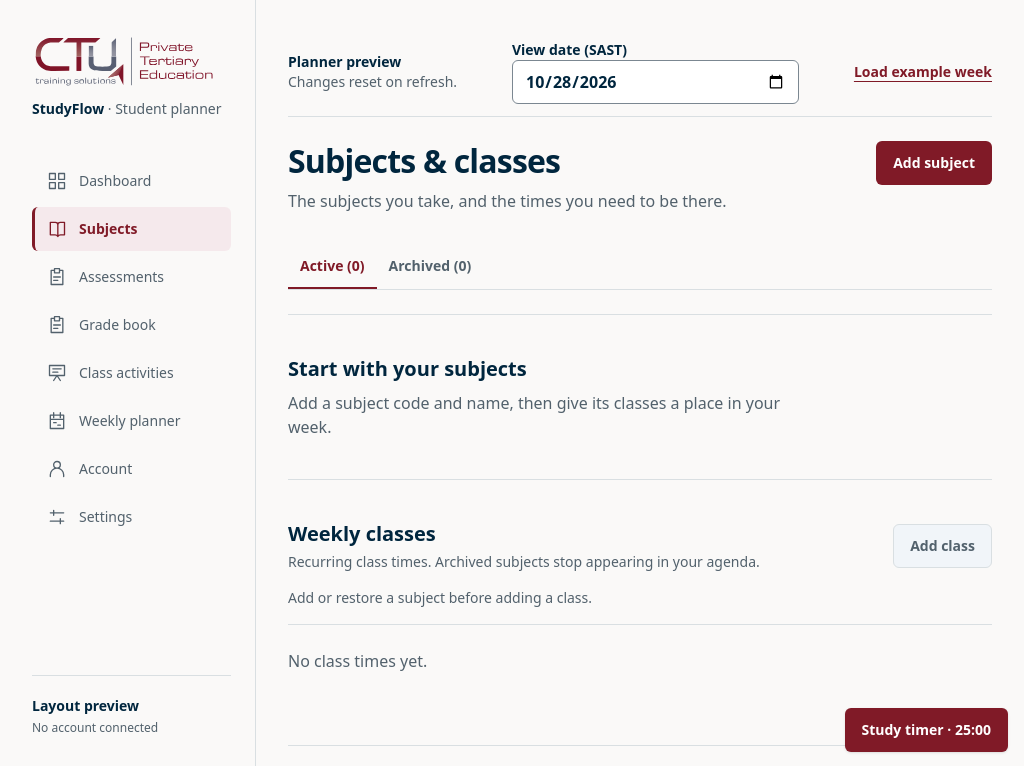
Scenario: shared starter navigation › shows a newly saved subject when it was added from Archived
The image size is (1024, 766).
Click the button "Archived (0)": (430,267) [377,245,483,289]
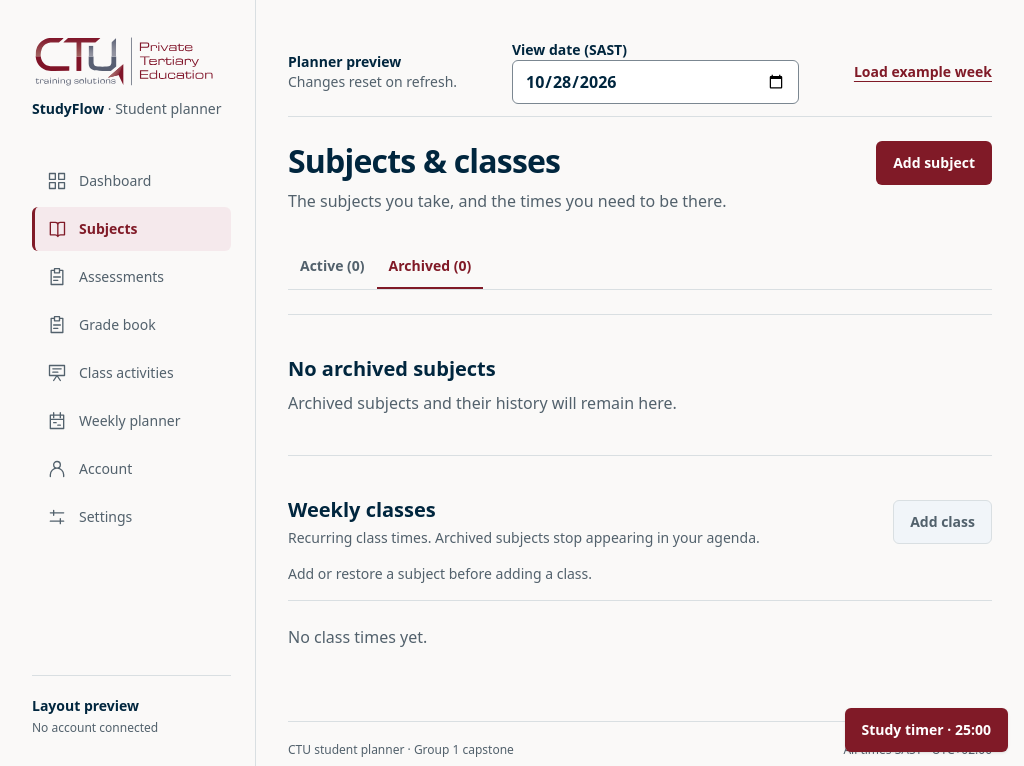
Click the button "Add subject": (934,163) [876,141,992,185]
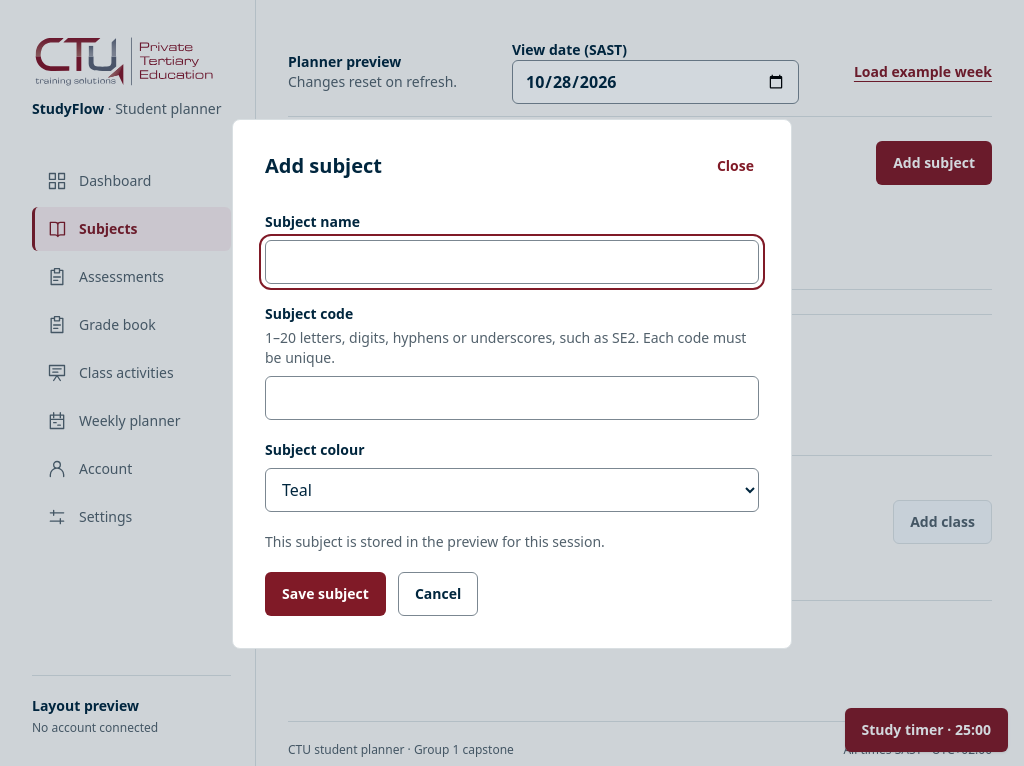
In the field labelled "Subject name": (512,262) [265,240,759,284], type "Visible subject"
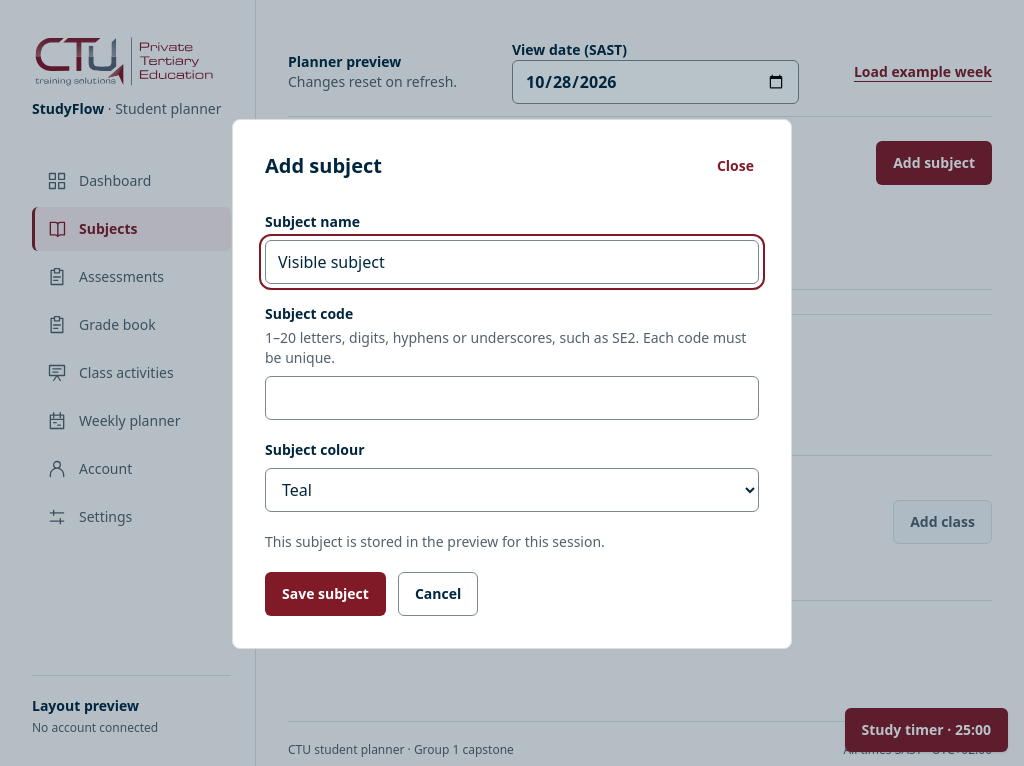
In the field labelled "Subject code": (512,398) [265,376,759,420], type "VIS"
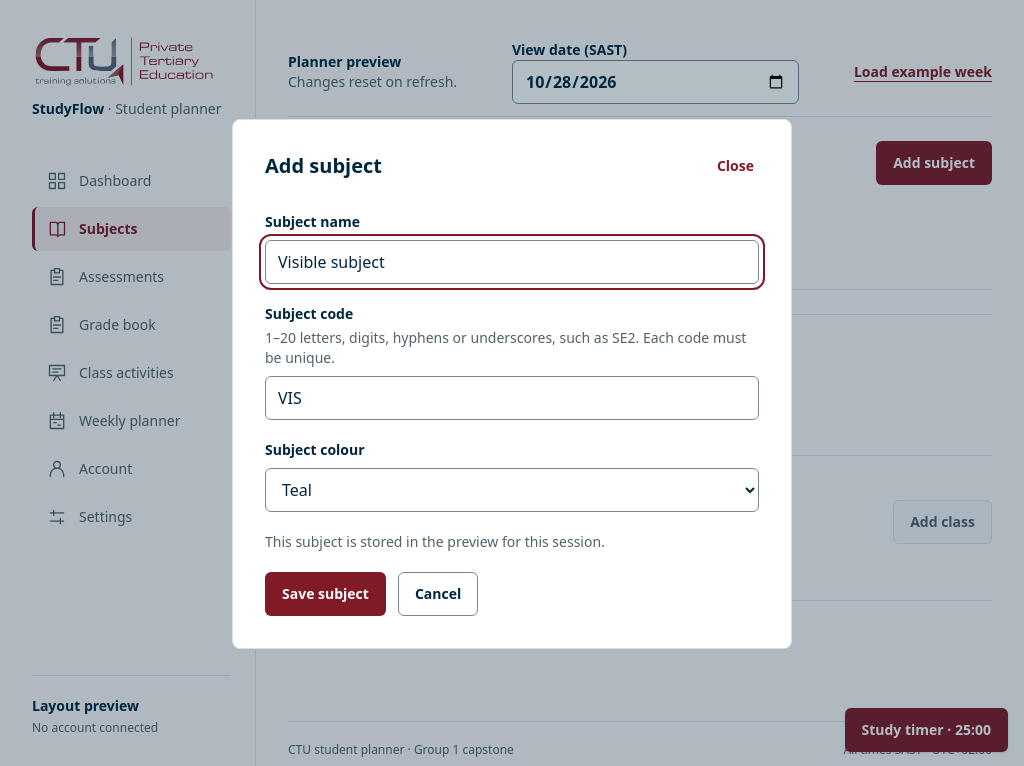
Click the button "Save subject": (325,594) [265,572,386,616]
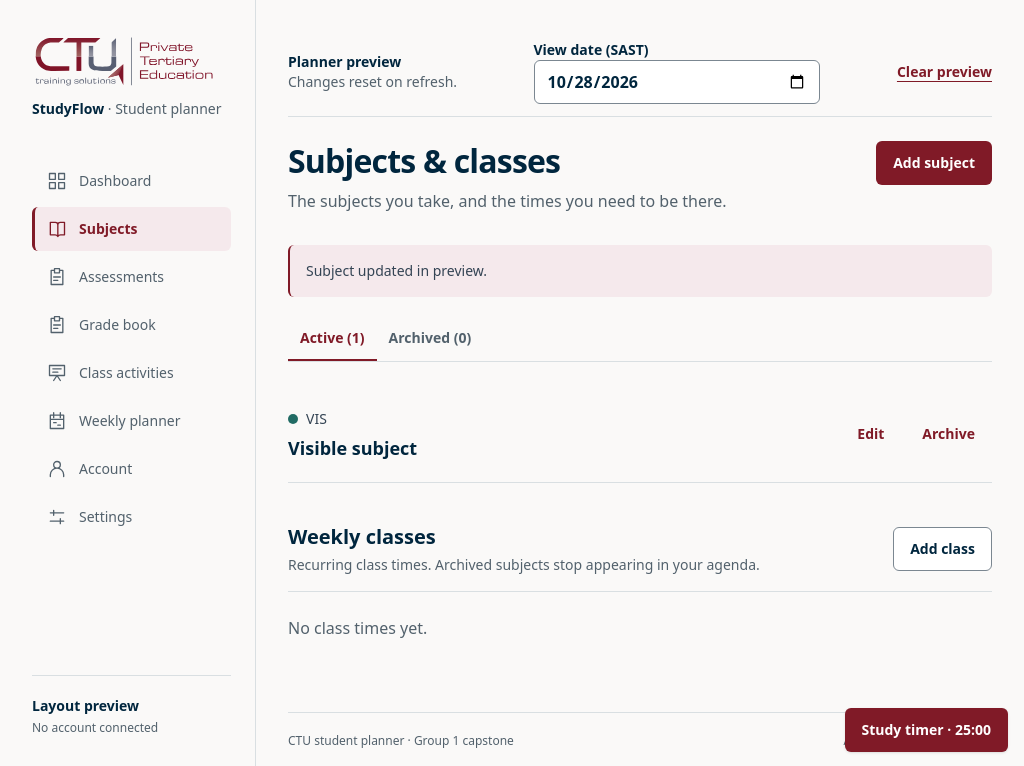
Expected: the heading "Visible subject" is shown, [288,434,417,462]
